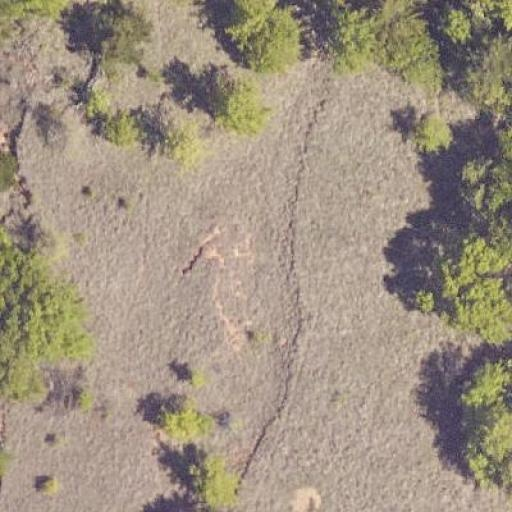tree-top: (0, 239, 106, 361), (413, 234, 511, 338), (444, 355, 511, 490), (214, 2, 300, 72), (382, 0, 446, 91), (314, 4, 378, 79), (453, 33, 511, 113), (69, 6, 145, 63), (452, 152, 511, 224), (204, 71, 272, 133), (182, 456, 244, 510), (147, 114, 205, 165), (406, 108, 454, 162), (154, 402, 215, 439), (99, 109, 142, 143)
